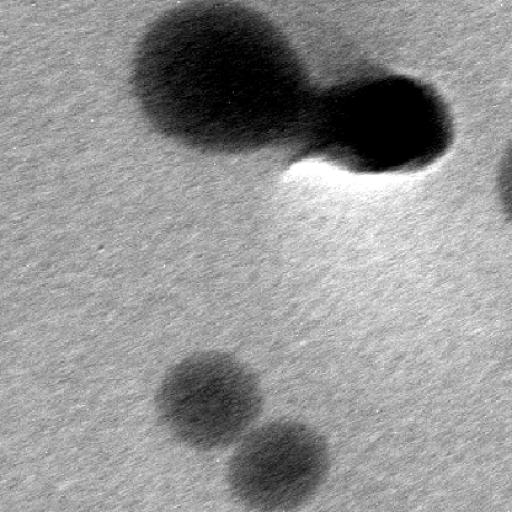Nanoparticles: (130, 1, 314, 168), (319, 57, 463, 183), (156, 343, 264, 447), (221, 413, 335, 510)
